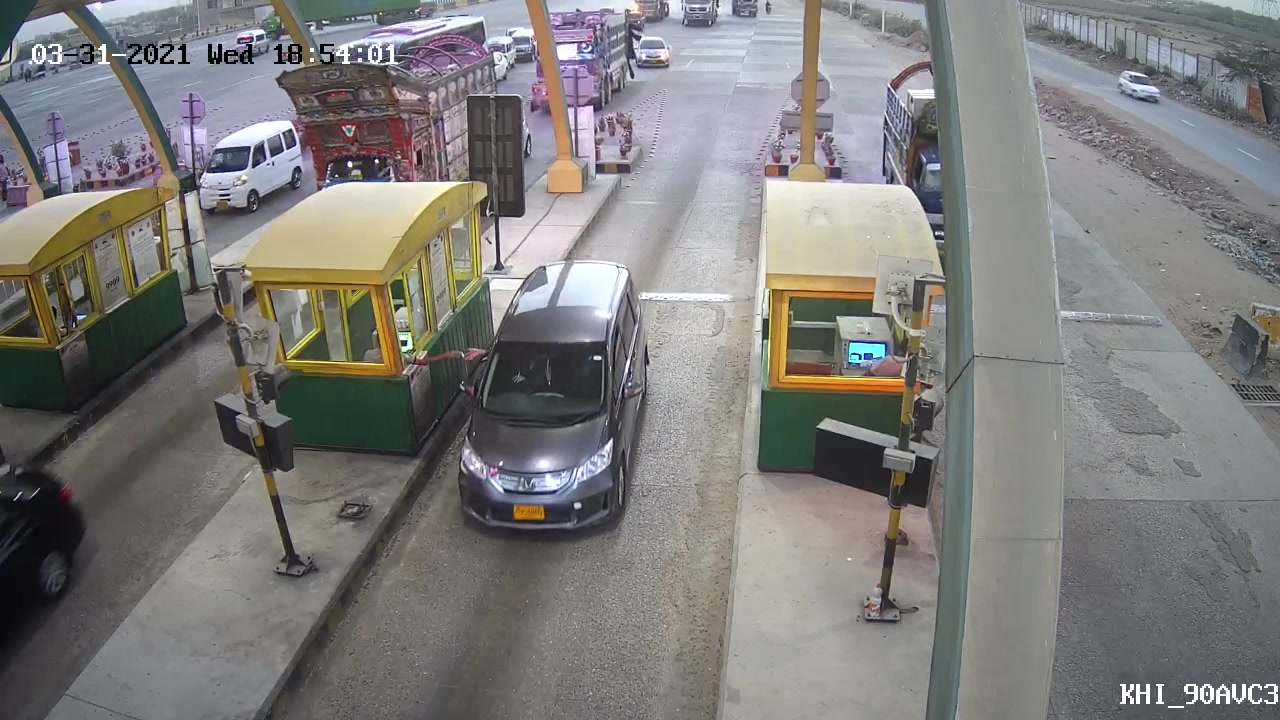F1: (451, 248, 657, 551)
